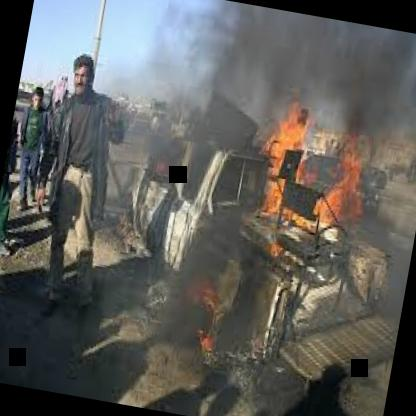fire: (152, 92, 392, 340)
